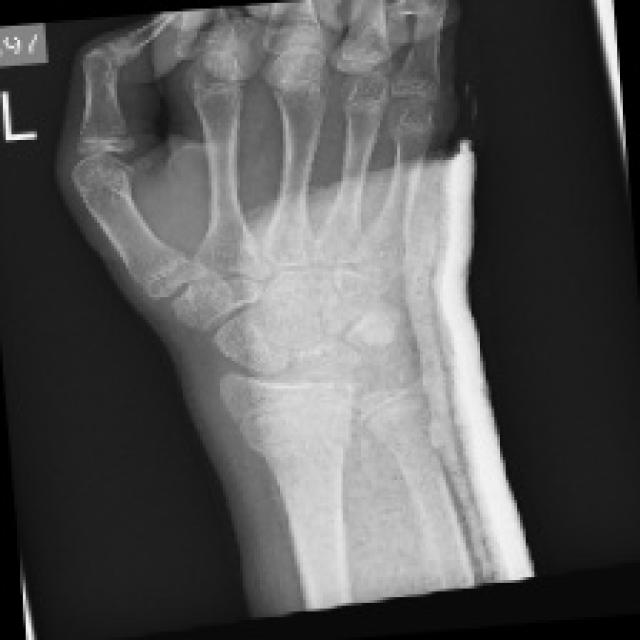fracture: (64, 104, 147, 225)
